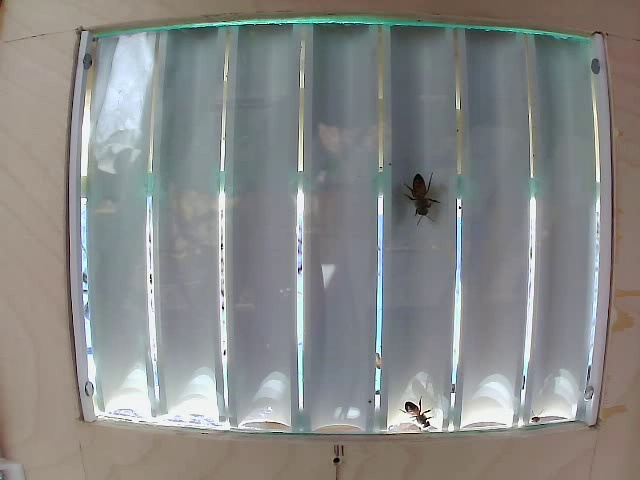bee: (401, 165, 440, 216)
